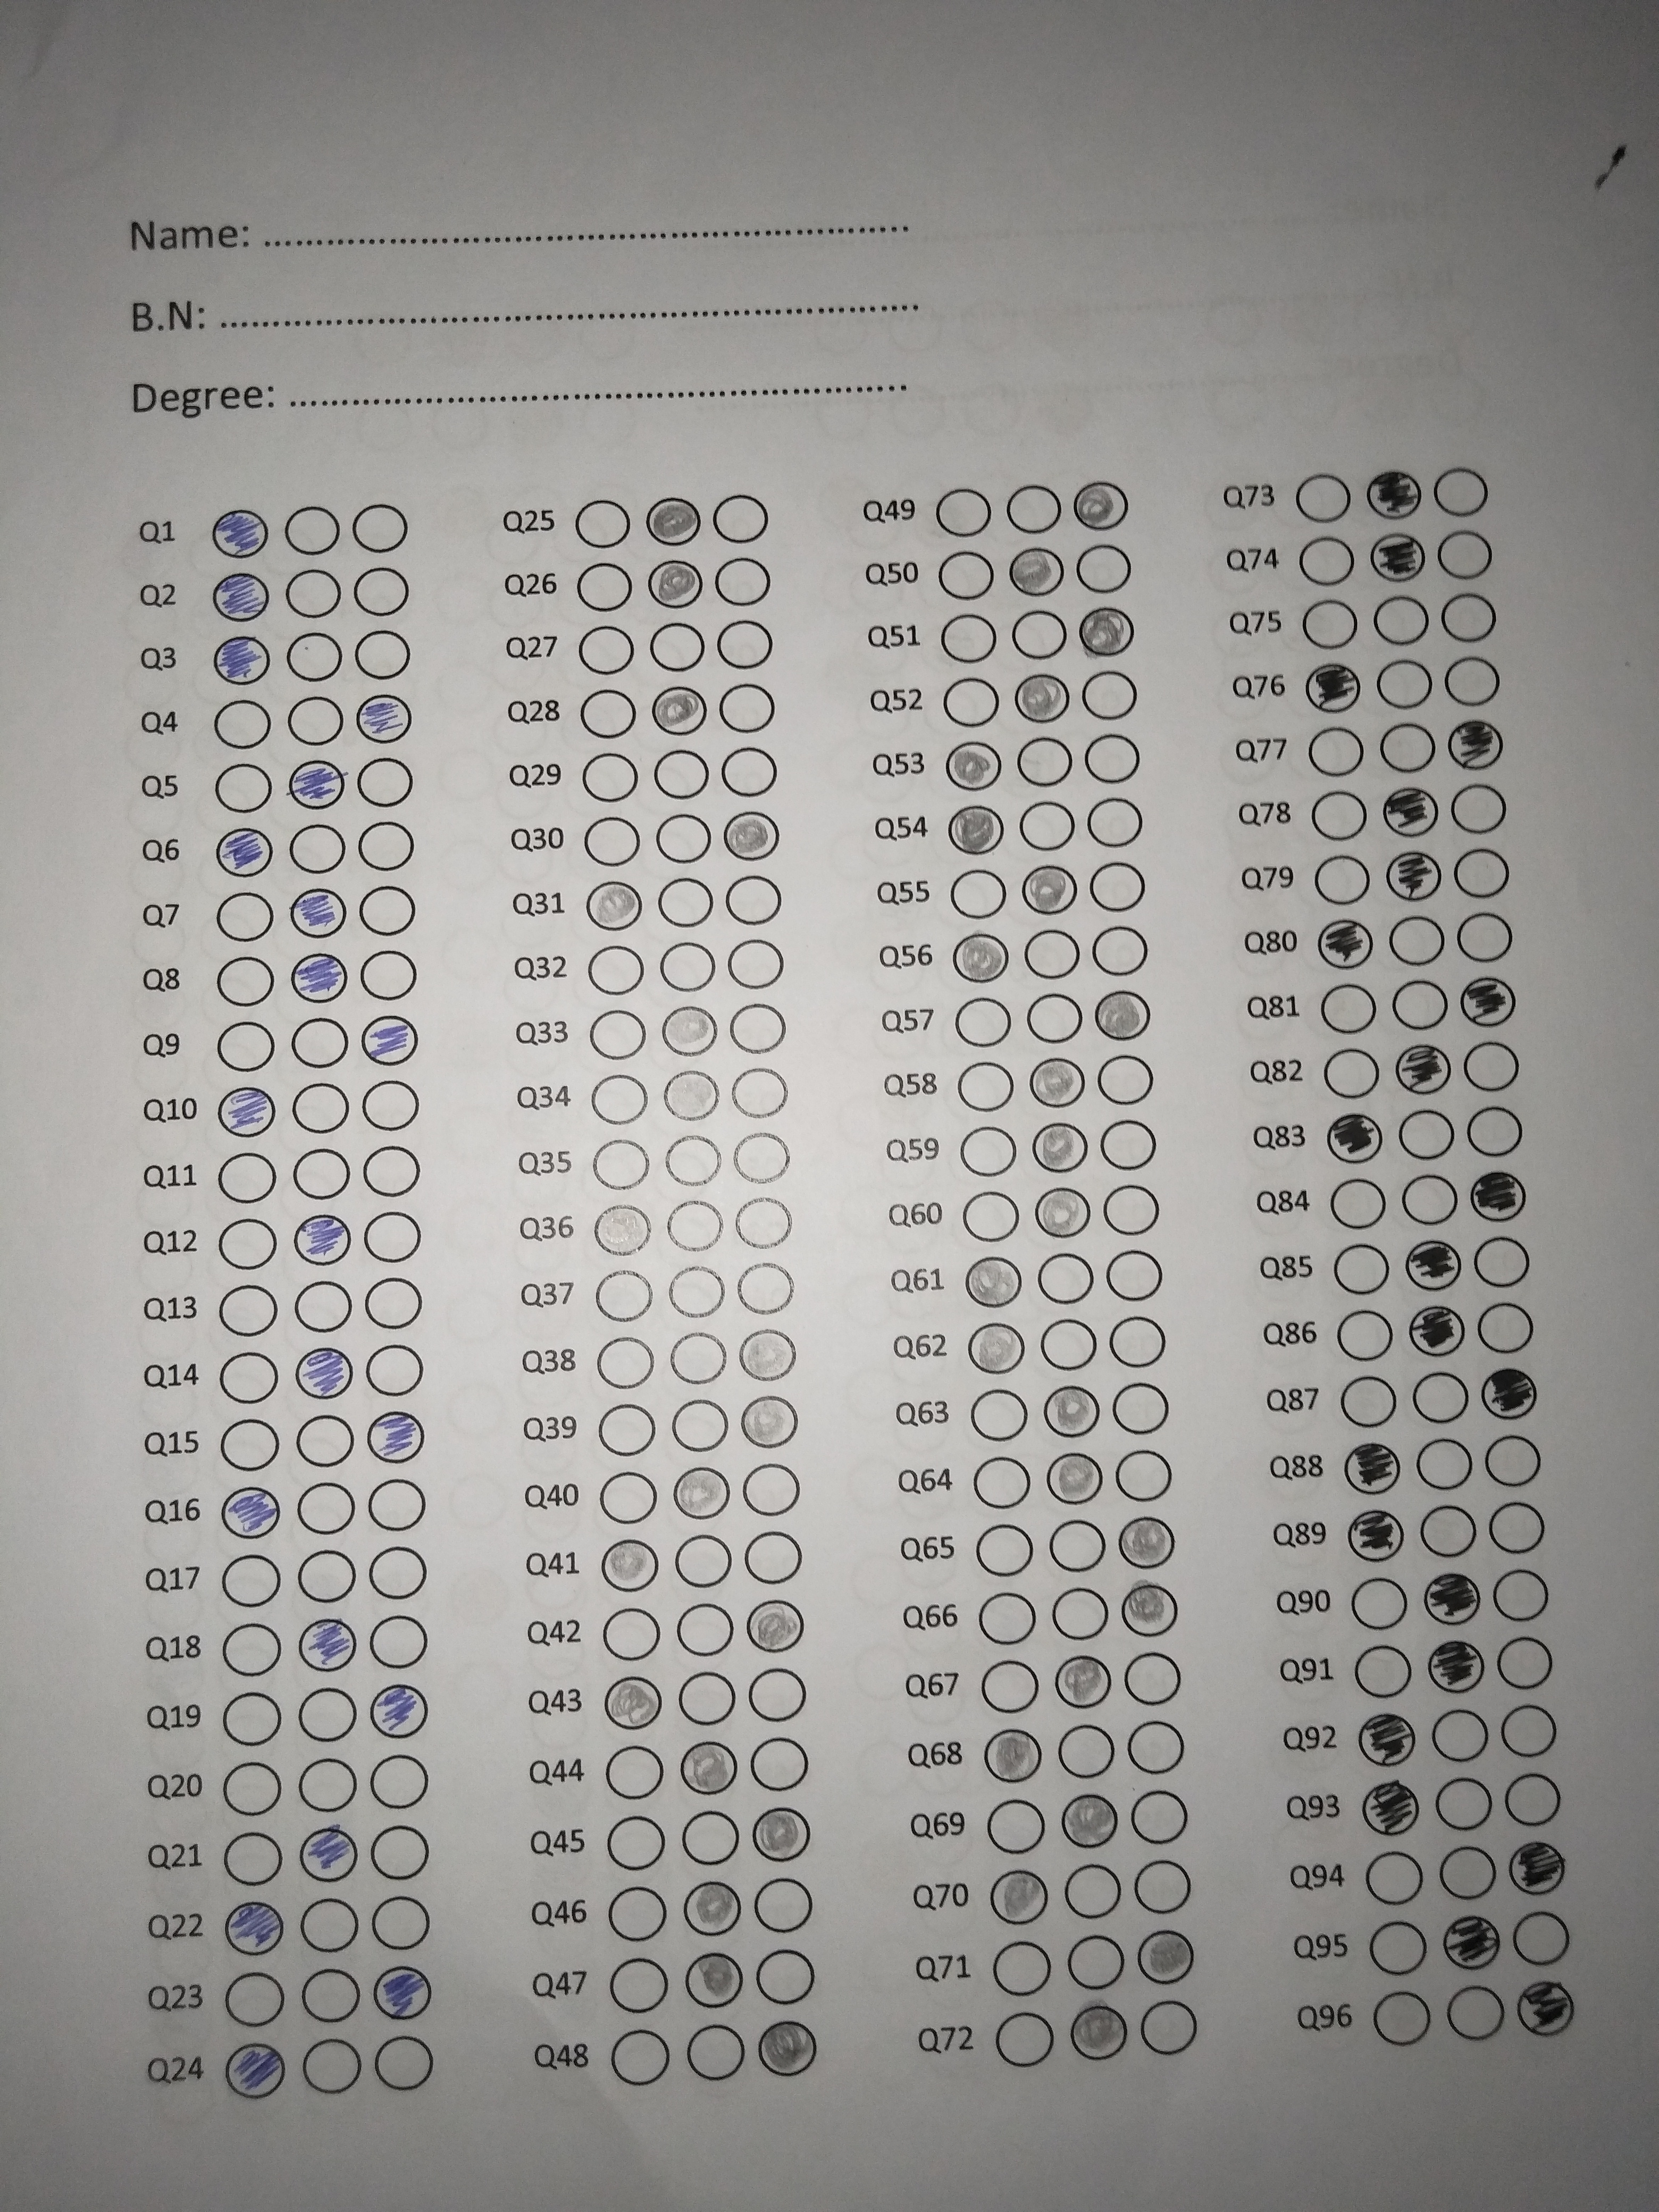not-c: (586, 1397, 660, 1465), (568, 491, 641, 559), (1344, 1641, 1419, 1707), (592, 1740, 669, 1804), (214, 1547, 286, 1615), (601, 2020, 673, 2088), (986, 2008, 1058, 2076), (209, 1214, 284, 1277), (596, 1811, 671, 1874), (971, 1656, 1046, 1719), (373, 2033, 441, 2101), (981, 1937, 1054, 2000), (965, 1451, 1037, 1514), (969, 1588, 1040, 1651), (1356, 1846, 1427, 1909), (737, 1461, 812, 1521), (568, 749, 645, 806), (296, 1893, 362, 1959), (291, 1479, 359, 1543), (1124, 1716, 1194, 1778), (979, 1796, 1049, 1858), (1493, 1700, 1563, 1763), (1364, 1916, 1434, 1979), (361, 1143, 432, 1204), (728, 1130, 800, 1191), (572, 683, 645, 742), (296, 1684, 362, 1749), (293, 1754, 361, 1817), (218, 1827, 286, 1890), (296, 2034, 364, 2097), (749, 1874, 817, 1937), (932, 545, 1000, 608), (1462, 1103, 1532, 1163), (1330, 1376, 1399, 1437), (1488, 1566, 1558, 1627), (1507, 1907, 1577, 1968), (207, 1015, 279, 1075), (368, 1754, 432, 1818), (605, 1881, 669, 1946), (1138, 1996, 1202, 2060), (289, 1144, 355, 1207), (218, 1688, 284, 1750), (218, 1754, 284, 1817), (298, 1966, 364, 2029), (737, 1527, 803, 1590), (669, 1529, 735, 1592), (1033, 1245, 1096, 1312), (362, 1271, 430, 1332), (369, 1824, 437, 1885), (676, 1810, 744, 1871), (1061, 1932, 1129, 1993), (357, 1209, 427, 1268), (584, 1069, 653, 1129), (281, 1014, 352, 1071), (1446, 780, 1518, 838), (589, 1602, 662, 1658), (347, 559, 411, 622), (221, 1620, 286, 1683), (683, 2020, 748, 2083), (1049, 1585, 1114, 1648), (289, 1275, 355, 1336), (293, 1409, 359, 1470), (293, 1547, 359, 1608), (1098, 1118, 1164, 1179), (1101, 1183, 1168, 1244), (969, 1521, 1035, 1581), (1058, 1860, 1124, 1921), (211, 887, 279, 946), (211, 1150, 279, 1209), (589, 1268, 657, 1327), (955, 1186, 1023, 1245), (1119, 1651, 1187, 1710), (1129, 1787, 1197, 1846), (575, 812, 645, 869), (213, 1414, 284, 1470), (216, 1343, 279, 1406), (748, 1735, 810, 1797), (606, 1952, 669, 2015), (366, 1543, 430, 1604), (653, 935, 718, 996), (1291, 469, 1356, 529), (1445, 1980, 1506, 2045), (352, 815, 418, 874), (286, 1082, 352, 1141), (662, 1263, 728, 1322), (669, 1601, 735, 1660), (967, 1385, 1033, 1444), (1448, 843, 1514, 902), (1331, 1306, 1398, 1366), (207, 697, 275, 754), (209, 761, 277, 819), (213, 951, 281, 1008), (716, 678, 784, 735), (730, 1197, 798, 1254), (591, 1332, 659, 1390), (594, 1468, 662, 1526), (1091, 1052, 1159, 1109), (359, 1076, 422, 1137), (368, 1615, 430, 1676), (709, 489, 772, 550), (720, 742, 782, 803), (756, 1949, 819, 2010), (1133, 1857, 1195, 1918), (1371, 1984, 1432, 2047), (277, 500, 342, 559), (355, 881, 420, 941), (667, 1395, 732, 1454), (746, 1665, 810, 1724), (1084, 860, 1148, 920), (1399, 1169, 1464, 1228), (1328, 1240, 1392, 1299), (587, 1134, 652, 1193), (362, 1343, 429, 1400), (713, 617, 779, 674), (727, 1000, 793, 1057), (660, 1198, 727, 1256), (936, 610, 1002, 667), (951, 1054, 1018, 1111), (1035, 1317, 1101, 1374), (674, 1670, 742, 1726), (939, 867, 1009, 921), (1100, 1249, 1171, 1301), (289, 817, 350, 878), (369, 1893, 430, 1954), (1054, 1724, 1117, 1784), (1476, 1298, 1539, 1357), (659, 1132, 723, 1190), (734, 1261, 798, 1318), (1084, 794, 1148, 852), (1016, 798, 1080, 855), (948, 993, 1012, 1050), (1046, 1519, 1110, 1576), (1309, 850, 1373, 907), (1453, 909, 1518, 967), (1326, 1177, 1391, 1235), (345, 498, 411, 554), (650, 873, 716, 928), (939, 674, 1006, 730), (1385, 977, 1452, 1033), (1314, 981, 1382, 1035), (1495, 1634, 1563, 1688), (655, 808, 716, 867), (667, 1329, 728, 1388), (1084, 730, 1145, 789), (1485, 1433, 1546, 1493), (1432, 1771, 1492, 1832), (932, 484, 995, 542), (1375, 719, 1438, 777), (1385, 913, 1448, 970), (1486, 1501, 1549, 1559), (1438, 1844, 1500, 1902), (1012, 733, 1077, 789), (586, 1008, 652, 1062), (1291, 536, 1358, 590), (211, 1285, 279, 1338), (572, 624, 640, 676), (587, 939, 647, 998), (1025, 988, 1084, 1047), (1431, 1703, 1490, 1763), (282, 631, 343, 688), (366, 1475, 427, 1533), (1462, 1038, 1523, 1096), (725, 937, 788, 993), (1112, 1447, 1175, 1503), (1434, 528, 1497, 583), (1321, 1047, 1384, 1103), (1019, 928, 1086, 981), (955, 1125, 1021, 1177), (1011, 608, 1070, 665), (1432, 463, 1492, 521), (1410, 1371, 1467, 1430), (1502, 1770, 1560, 1829), (282, 566, 343, 622), (1004, 484, 1065, 540), (1396, 1106, 1457, 1162), (227, 1972, 289, 2026), (573, 563, 636, 617), (1107, 1315, 1169, 1369), (1108, 1381, 1171, 1435), (1347, 1575, 1410, 1629), (359, 951, 423, 1003), (1302, 725, 1366, 777), (1079, 669, 1136, 726), (1373, 592, 1432, 648), (1373, 657, 1432, 712), (1473, 1237, 1532, 1292), (1417, 1439, 1476, 1494), (352, 627, 413, 681), (1307, 787, 1370, 840), (711, 556, 775, 606), (727, 1064, 791, 1115), (652, 622, 709, 678), (1417, 1503, 1474, 1559), (352, 756, 411, 810), (653, 745, 713, 799), (723, 873, 782, 927), (1075, 540, 1134, 594), (1091, 927, 1152, 979), (1298, 597, 1361, 648), (282, 697, 347, 745), (1441, 592, 1499, 644), (1443, 653, 1497, 707)
taken-c: (749, 1803, 814, 1865), (601, 1672, 666, 1735), (979, 1724, 1046, 1785), (1068, 2001, 1131, 2064), (225, 2040, 288, 2101), (681, 1879, 744, 1940), (988, 1865, 1051, 1926), (1514, 1977, 1575, 2040), (758, 2017, 819, 2078), (298, 1825, 361, 1885), (1115, 1512, 1178, 1571), (735, 1325, 800, 1383), (371, 1679, 430, 1740), (375, 1961, 434, 2022), (683, 1951, 744, 2010), (680, 1738, 741, 1797), (1121, 1580, 1182, 1639), (1060, 1791, 1121, 1850), (1136, 1926, 1195, 1987), (1356, 1710, 1417, 1770), (1427, 1635, 1488, 1695), (223, 1898, 286, 1956), (1091, 988, 1154, 1045), (1342, 1439, 1405, 1496), (298, 1616, 357, 1676), (744, 1595, 803, 1655), (295, 1343, 355, 1400), (660, 1001, 721, 1059), (1072, 477, 1133, 535), (1053, 1653, 1114, 1710), (1507, 1841, 1568, 1898), (1347, 1507, 1408, 1564), (1408, 1301, 1469, 1359), (220, 1486, 282, 1541), (599, 1538, 662, 1594), (1075, 604, 1138, 660), (1040, 1383, 1103, 1439), (1392, 1042, 1455, 1097), (295, 1211, 354, 1268), (366, 1409, 425, 1467), (1033, 1184, 1093, 1242), (964, 1252, 1023, 1310), (1441, 1912, 1500, 1970), (1363, 1780, 1422, 1838), (739, 1393, 800, 1449), (591, 1202, 652, 1258), (943, 737, 1004, 792), (1044, 1449, 1105, 1505), (1405, 1237, 1466, 1292), (211, 634, 274, 688), (291, 948, 349, 1005), (967, 1318, 1025, 1376), (288, 756, 347, 812), (946, 801, 1006, 857), (1424, 1571, 1483, 1627), (1469, 1169, 1528, 1224), (1324, 1109, 1384, 1165), (1368, 528, 1427, 583), (211, 505, 272, 559), (673, 1465, 734, 1519), (660, 1068, 721, 1122), (1363, 467, 1424, 521), (220, 1085, 277, 1141), (951, 930, 1009, 986), (1385, 850, 1443, 906), (289, 885, 349, 939), (721, 810, 781, 864), (650, 683, 709, 737), (1007, 545, 1066, 599), (1480, 1367, 1539, 1421), (1317, 916, 1377, 970), (1382, 786, 1441, 840), (1446, 718, 1506, 772), (211, 571, 272, 624), (1302, 662, 1363, 714), (1030, 1054, 1086, 1109), (355, 691, 413, 745), (361, 1014, 418, 1068), (645, 495, 702, 549), (1019, 864, 1077, 918), (1460, 975, 1518, 1029), (584, 880, 643, 932), (216, 827, 274, 880), (1014, 672, 1072, 725), (1030, 1123, 1089, 1174), (647, 561, 704, 610)
